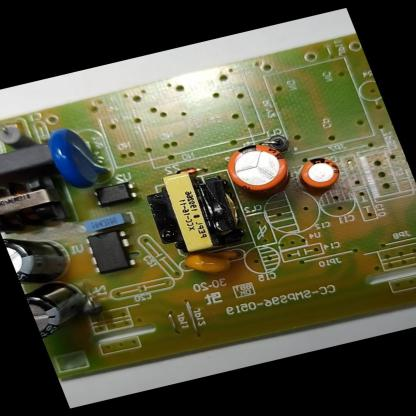Cap1: (216, 136, 297, 201)
Cap2: (294, 151, 346, 195)
Cap3: (1, 223, 78, 289)
Cap4: (23, 276, 103, 340)
MOSFET: (78, 225, 144, 280)
Mov: (41, 122, 117, 193)
Resistor: (0, 118, 39, 153)
Transformer: (136, 161, 254, 263), (0, 170, 76, 238)
